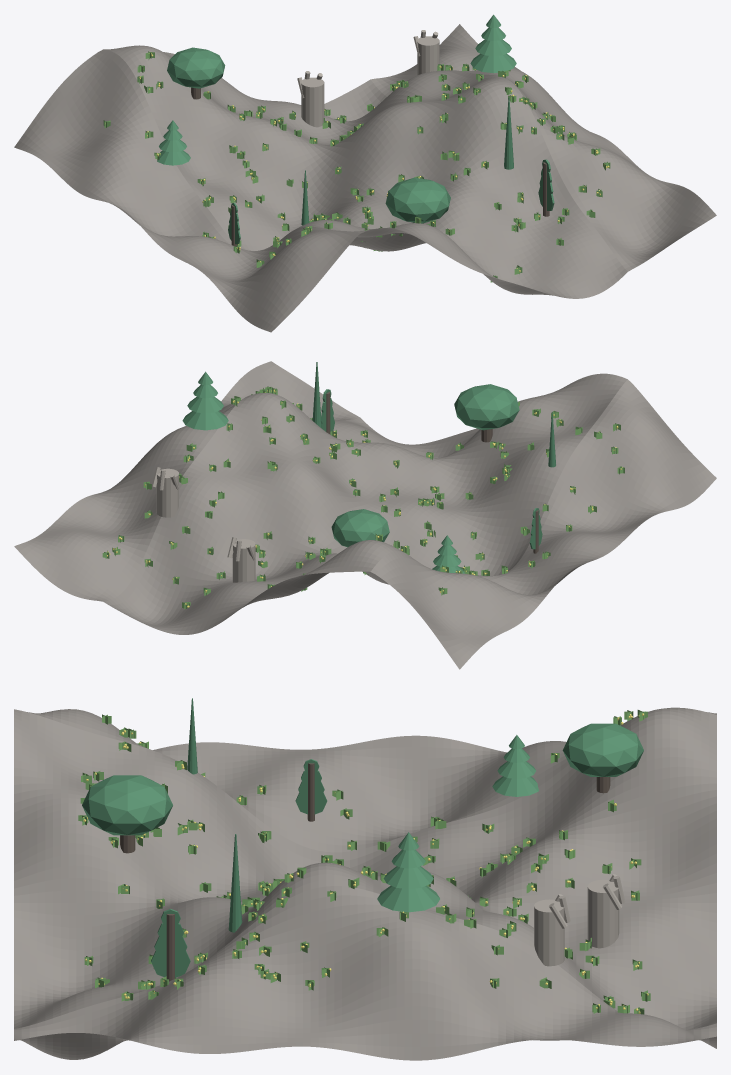
The model's file is seagrass-meadow.glb.
3 renders of one model, top to bottom at view 1: azimuth 30°, elevation 25°; view 2: azimuth 150°, elevation 25°; view 3: azimuth 270°, elevation 25°, orthographic. The views are drawn at different scales.
Visible parts, largest first — view 1: Node1, Node31, Node18, Node32, Node13, Node26; view 2: Node1, Node31, Node18, Node13, Node32, Node26; view 3: Node1, Node31, Node18, Node32, Node13, Node26, Node27, Node19, Node9, Node4, Node3.
Boxes of the visible parts, x1,y1,x2,y2 form: Node1: (14, 24, 716, 332); Node31: (385, 177, 450, 223); Node18: (167, 47, 225, 88); Node32: (301, 77, 324, 127); Node13: (417, 36, 439, 75); Node26: (470, 53, 516, 73); Node1: (14, 361, 716, 669); Node31: (454, 384, 519, 430); Node18: (331, 509, 389, 547); Node13: (156, 468, 178, 517); Node32: (232, 539, 255, 582); Node26: (182, 411, 228, 430); Node1: (14, 707, 716, 1060); Node31: (82, 775, 172, 835); Node18: (562, 723, 643, 776); Node32: (587, 879, 619, 948); Node13: (534, 899, 564, 966); Node26: (377, 885, 439, 912); Node27: (383, 866, 433, 889); Node19: (228, 834, 242, 932); Node9: (492, 776, 538, 796); Node4: (151, 945, 190, 977); Node3: (166, 914, 175, 981).
Bounding box in the file's own units: 65 × 23.73 × 65.
